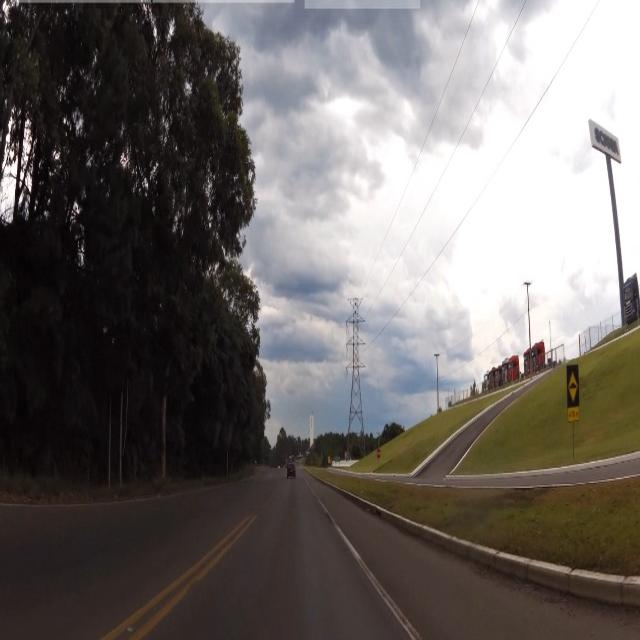A-18: (568, 372, 580, 402)
